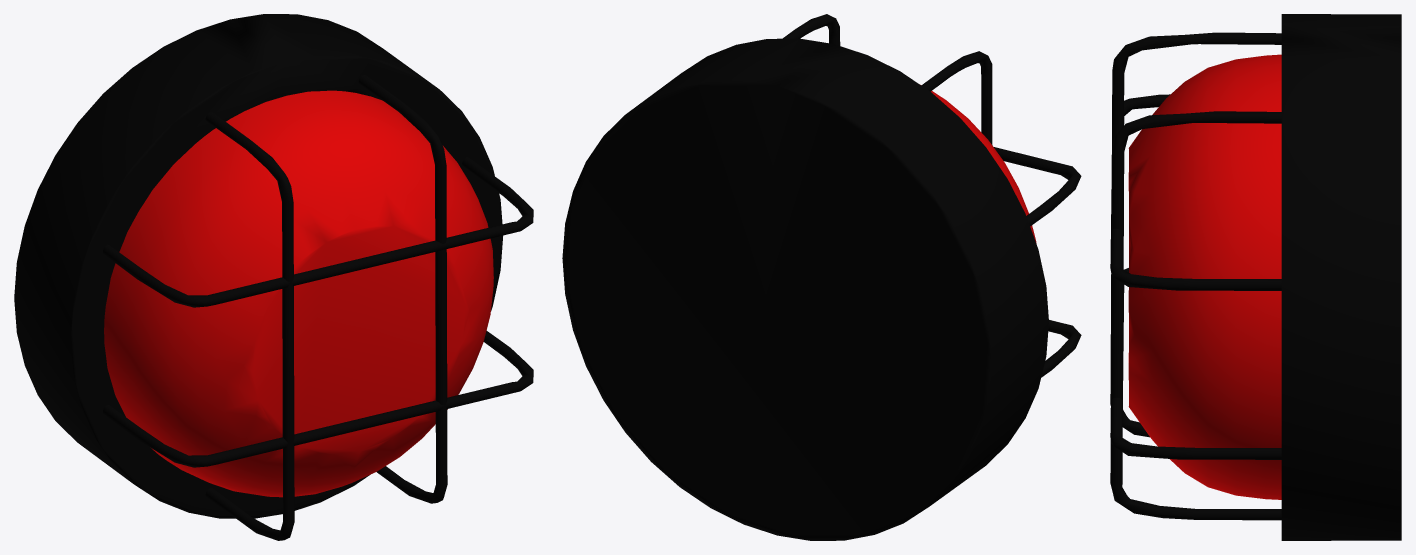
Rendered from SM_IndustrialWallLight.fbx.
3 renders of one model, left to right at view 1: azimuth 30°, elevation 25°; view 2: azimuth 150°, elevation 25°; view 3: azimuth 270°, elevation 25°, orthographic. The views are drawn at different scales.
Parts seen in each view (by area): view 1: Wall_light; view 2: Wall_light; view 3: Wall_light.
Part boxes in pixels (x1=…): Wall_light: x1=14, y1=14, x2=533, y2=540; Wall_light: x1=562, y1=14, x2=1081, y2=540; Wall_light: x1=1110, y1=14, x2=1401, y2=540.
Size of the model in its own units: 21.92 by 21.92 by 12.1.
